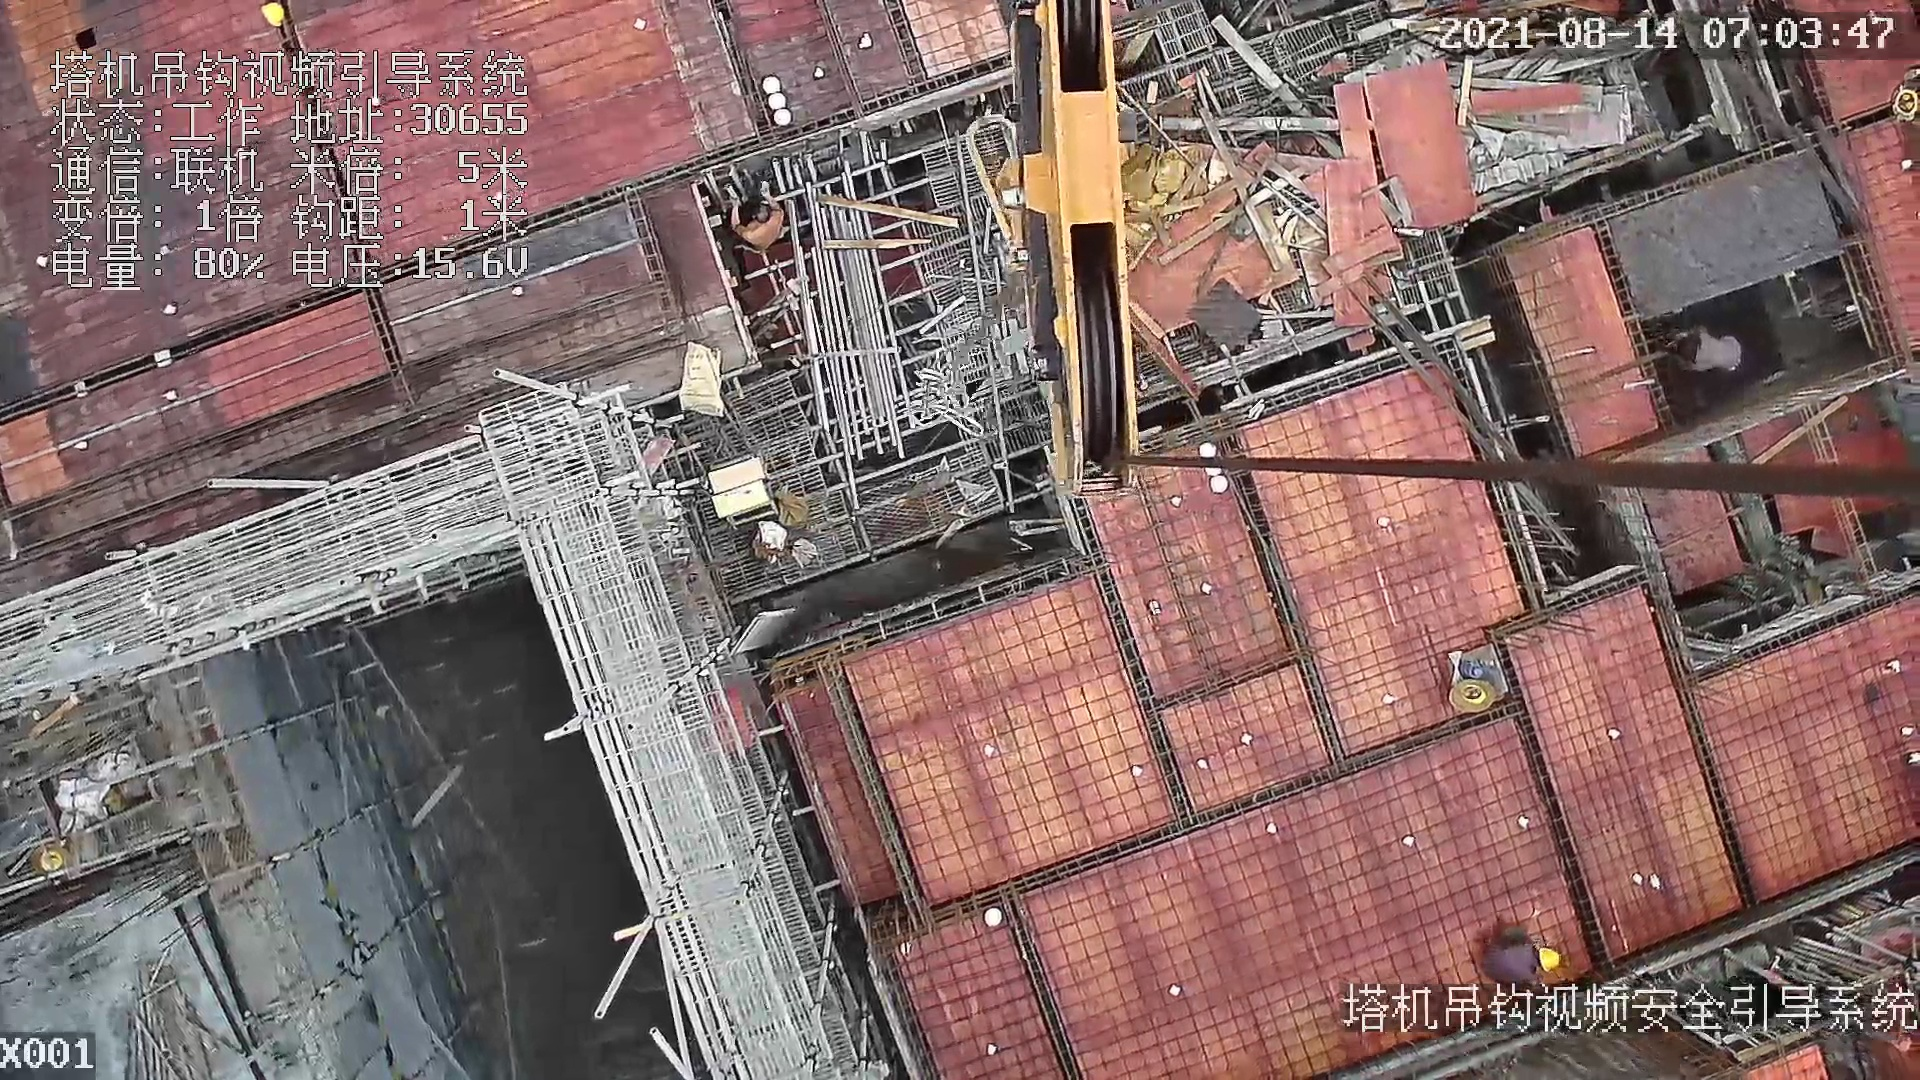helmet: (255, 1, 291, 32), (1538, 942, 1560, 973)
hook: (963, 1, 1144, 501)
person: (718, 186, 791, 257), (1661, 323, 1750, 377), (1476, 924, 1562, 978)
